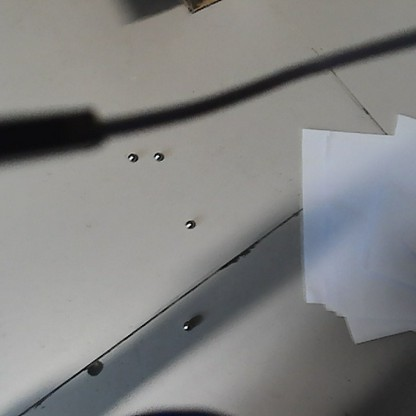ironball: (184, 218, 193, 229), (152, 150, 161, 160), (182, 321, 191, 331), (127, 153, 136, 161)
